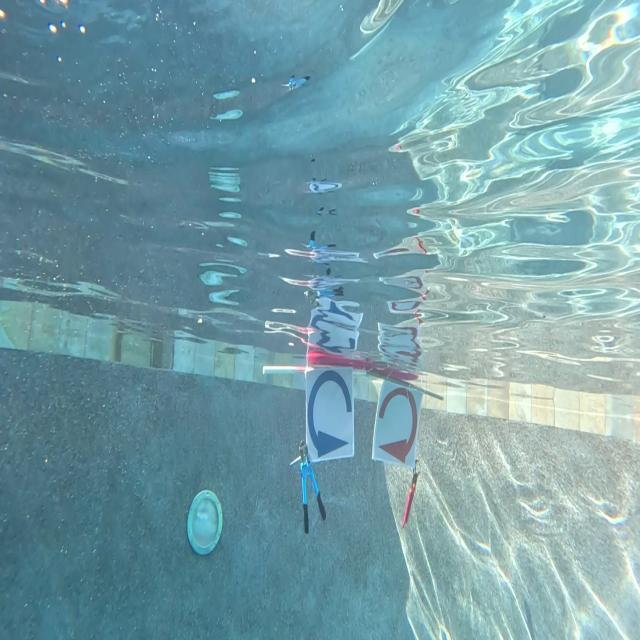blue_side: (304, 372, 352, 462)
red_side: (375, 383, 420, 470)
